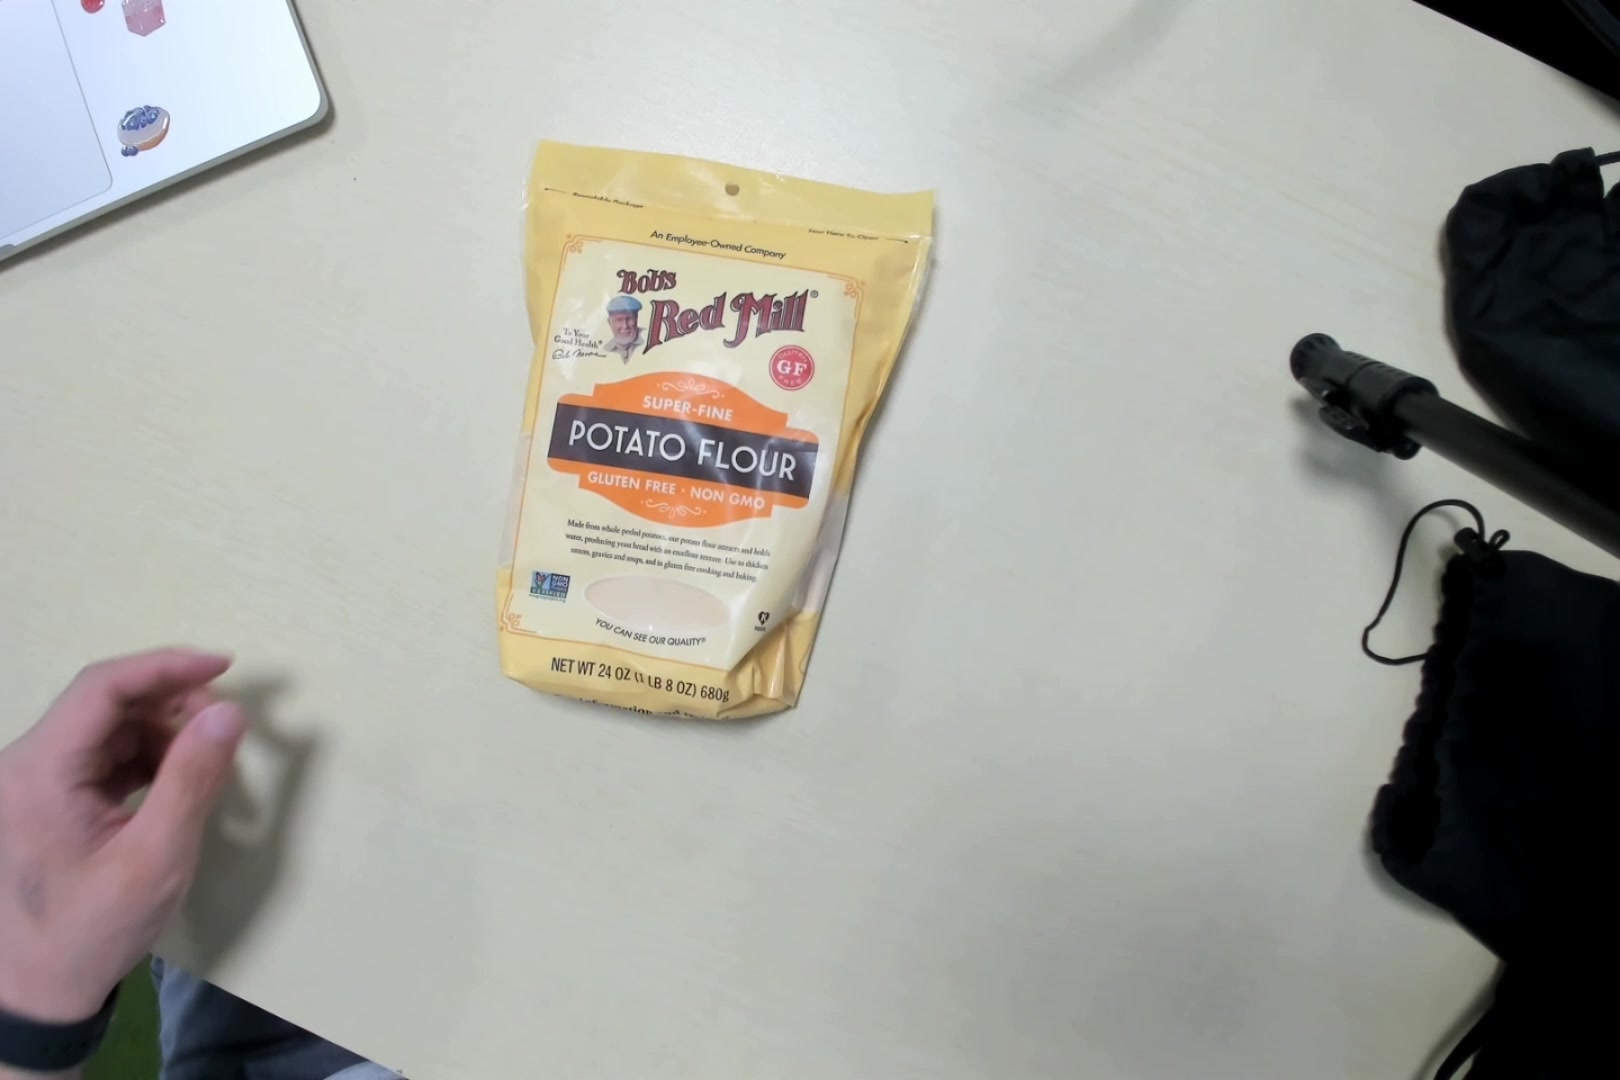OtherBakingNeeds_600-699g_NonHalal_NonHealthy: (498, 127, 937, 720)
